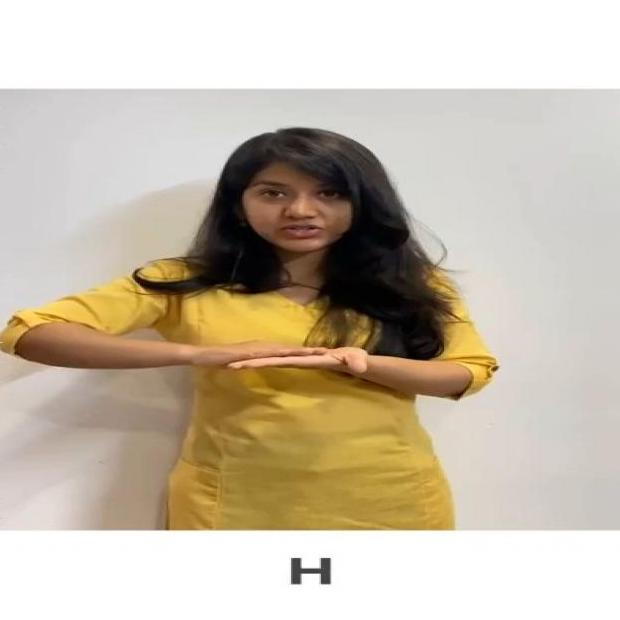G: (188, 332, 403, 394)
